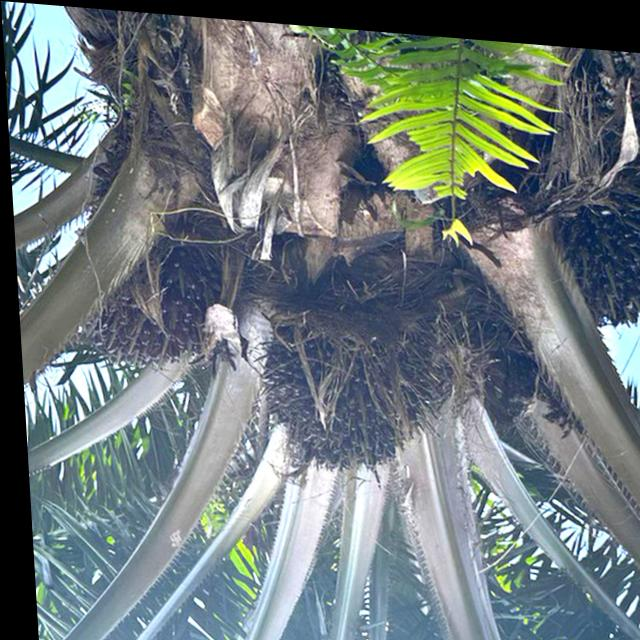unripe: (239, 280, 451, 493)
